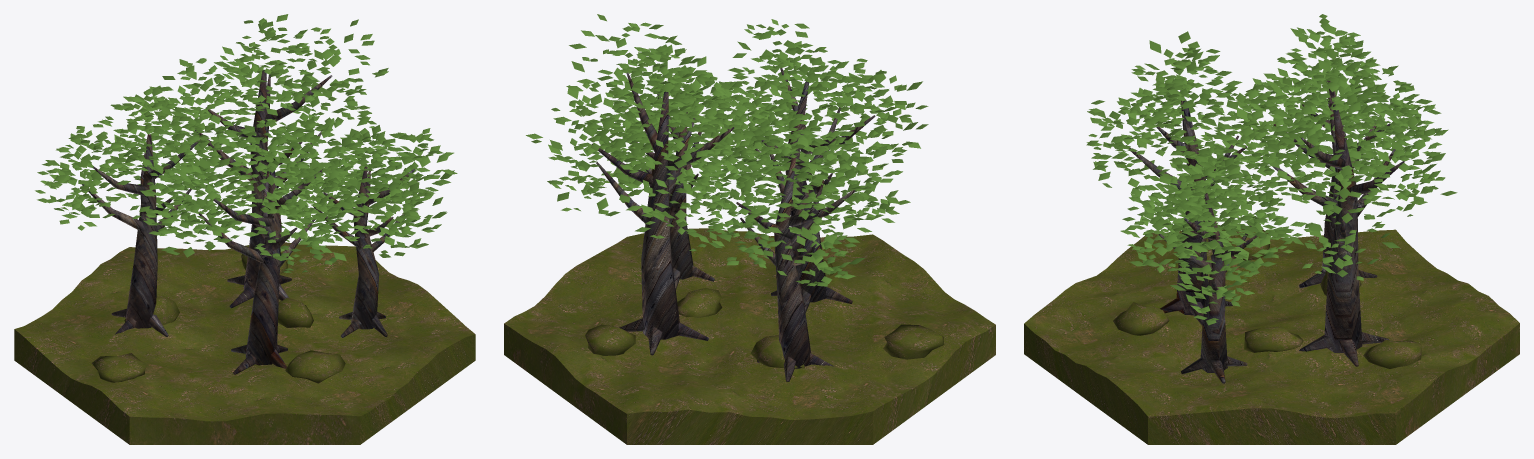
The model's file is env-terrain-forest.glb.
3 views of the same model, side by side, from view 1: azimuth 30°, elevation 25°; view 2: azimuth 150°, elevation 25°; view 3: azimuth 270°, elevation 25° (orthographic). The views are drawn at different scales.
Parts seen in each view (by area): view 1: terrain forest · authored textured miniature; view 2: terrain forest · authored textured miniature; view 3: terrain forest · authored textured miniature.
Part boxes in pixels (box(x1,y1,x2,y2)): terrain forest · authored textured miniature: box(14, 14, 475, 444); terrain forest · authored textured miniature: box(504, 14, 995, 444); terrain forest · authored textured miniature: box(1024, 14, 1519, 444).
Size of the model in its own units: 1.63 by 1.35 by 1.88.
3 materials, 2 textured.
